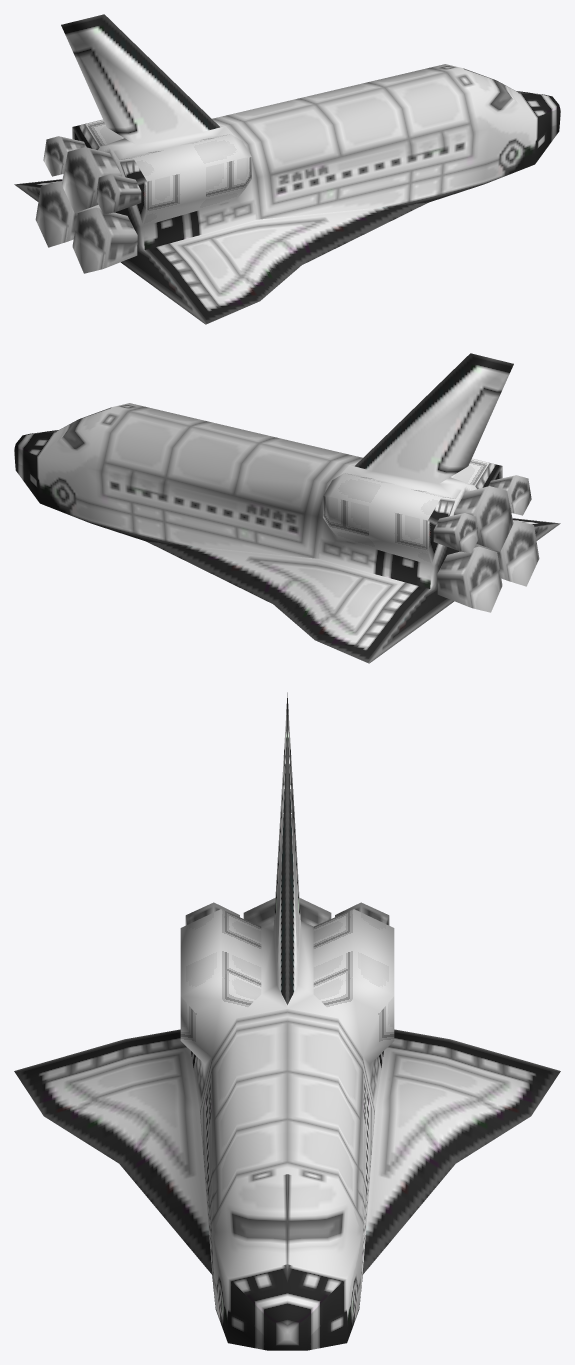
The model's file is int_uvs_shuttle.dae.
3 views of the same model, one above another, from view 1: azimuth 30°, elevation 25°; view 2: azimuth 150°, elevation 25°; view 3: azimuth 270°, elevation 25° (orthographic). The views are drawn at different scales.
Visible parts, largest first — view 1: int_uvs_shuttle; view 2: int_uvs_shuttle; view 3: int_uvs_shuttle.
Boxes of the visible parts, left/top/right/bottom form: int_uvs_shuttle: left=14, top=14, right=560, bottom=324; int_uvs_shuttle: left=14, top=353, right=560, bottom=663; int_uvs_shuttle: left=14, top=692, right=560, bottom=1350.
Bounding box in the file's own units: 47 × 21.7 × 31.2.
2 materials, 2 textured.
